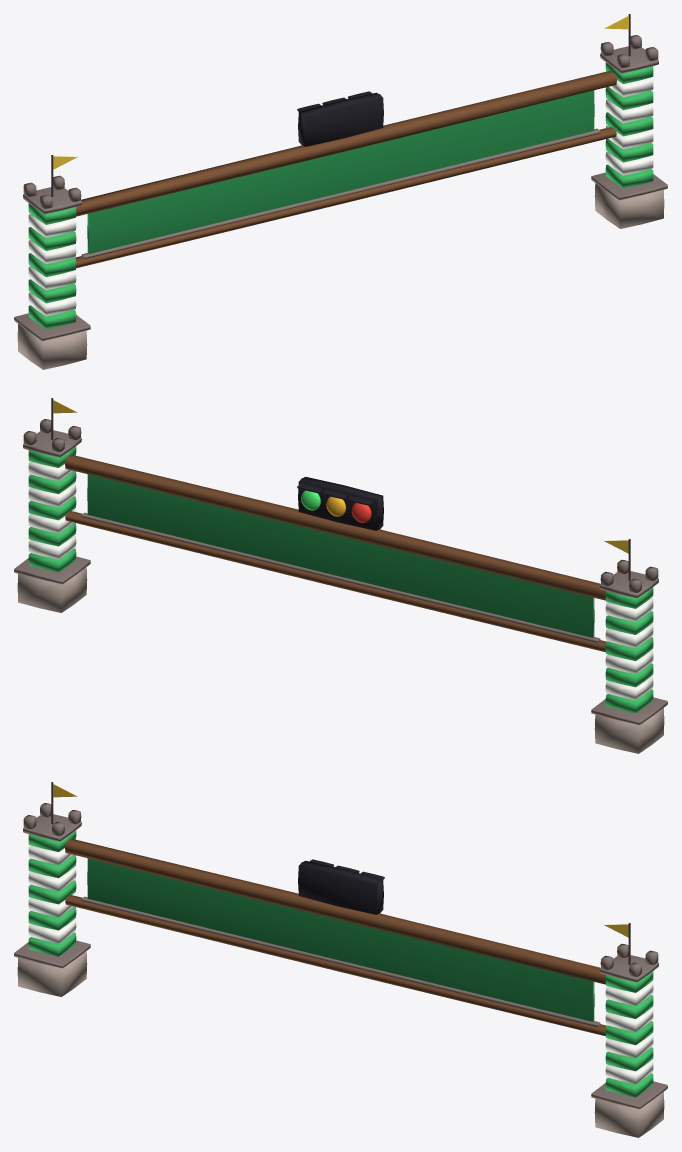
File: SkateStartGate.obj
3 views of the same model, one above another, from view 1: azimuth 30°, elevation 25°; view 2: azimuth 150°, elevation 25°; view 3: azimuth 330°, elevation 25° (orthographic).
Parts seen in each view (by area): view 1: Banner, Beam, Trim, StripeA, StripeB, Stone, Housing; view 2: Banner, Beam, Trim, StripeA, StripeB, Stone, Housing; view 3: Banner, Beam, Trim, StripeA, StripeB, Stone, Housing.
Boxes of the visible parts, x1,y1,x2,y2 form: Banner: (87,90,594,253); Beam: (75,71,616,268); Trim: (14,35,667,341); StripeA: (28,62,653,329); StripeB: (28,77,653,316); Stone: (17,183,664,369); Housing: (297,91,383,146); Banner: (87,474,594,637); Beam: (65,455,606,652); Trim: (14,419,667,725); StripeA: (28,446,653,713); StripeB: (28,461,653,700); Stone: (17,567,664,753); Housing: (297,476,383,530); Banner: (87,858,594,1021); Beam: (65,839,606,1036); Trim: (14,803,667,1109); StripeA: (28,830,653,1097); StripeB: (28,845,653,1084); Stone: (17,951,664,1137); Housing: (298,859,384,914).
Size of the model in its own units: 124 by 38 by 9.8.
